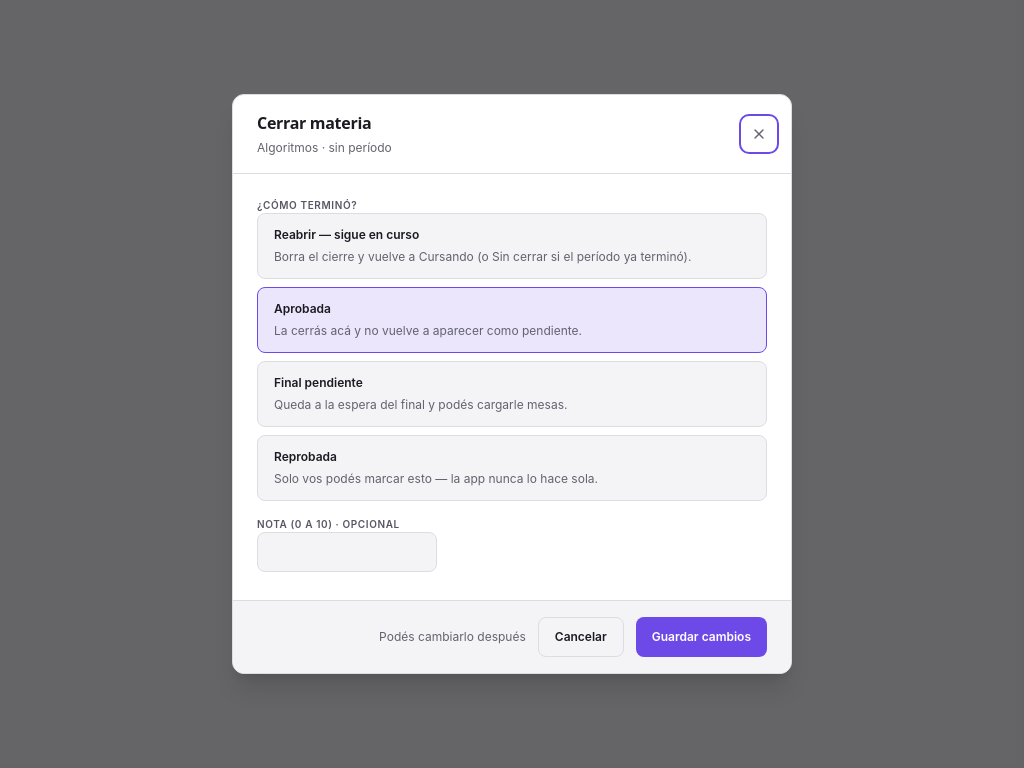
CerrarMateriaModal — replace-existing notice › omits the nota when none is stored
The image size is (1024, 768).
Click the button "Reprobada" at (512, 468), box 257,435 -> 767,501
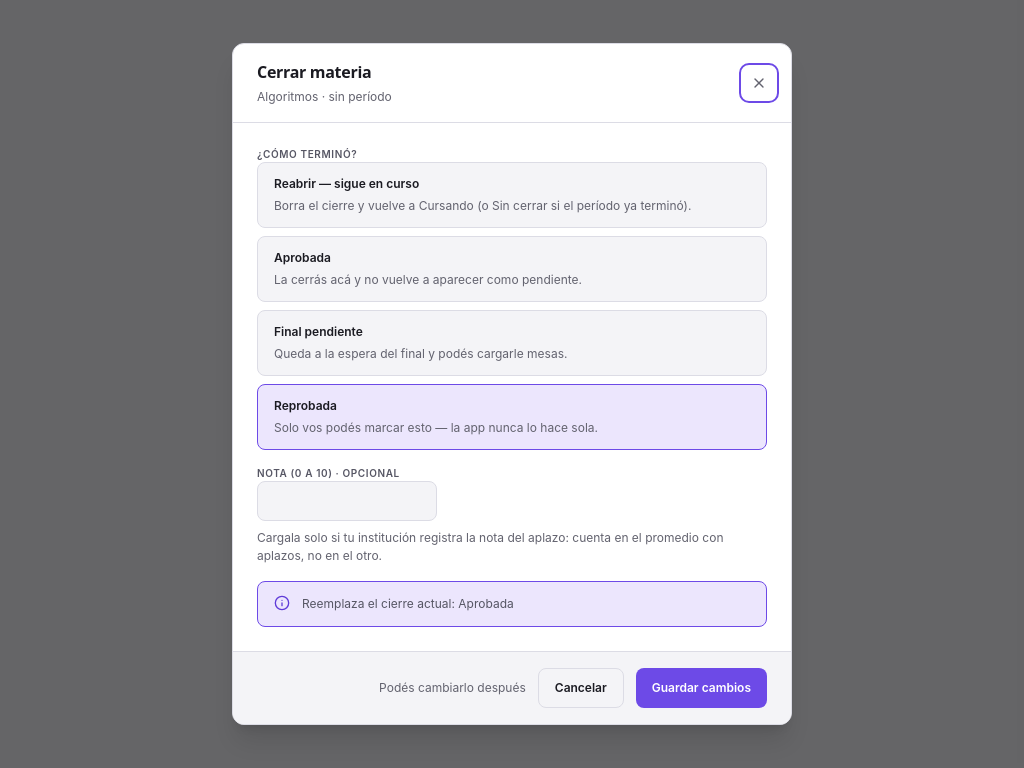
Expected: the text "Reemplaza el cierre actual: Aprobada" is shown, 302,594 -> 514,614
